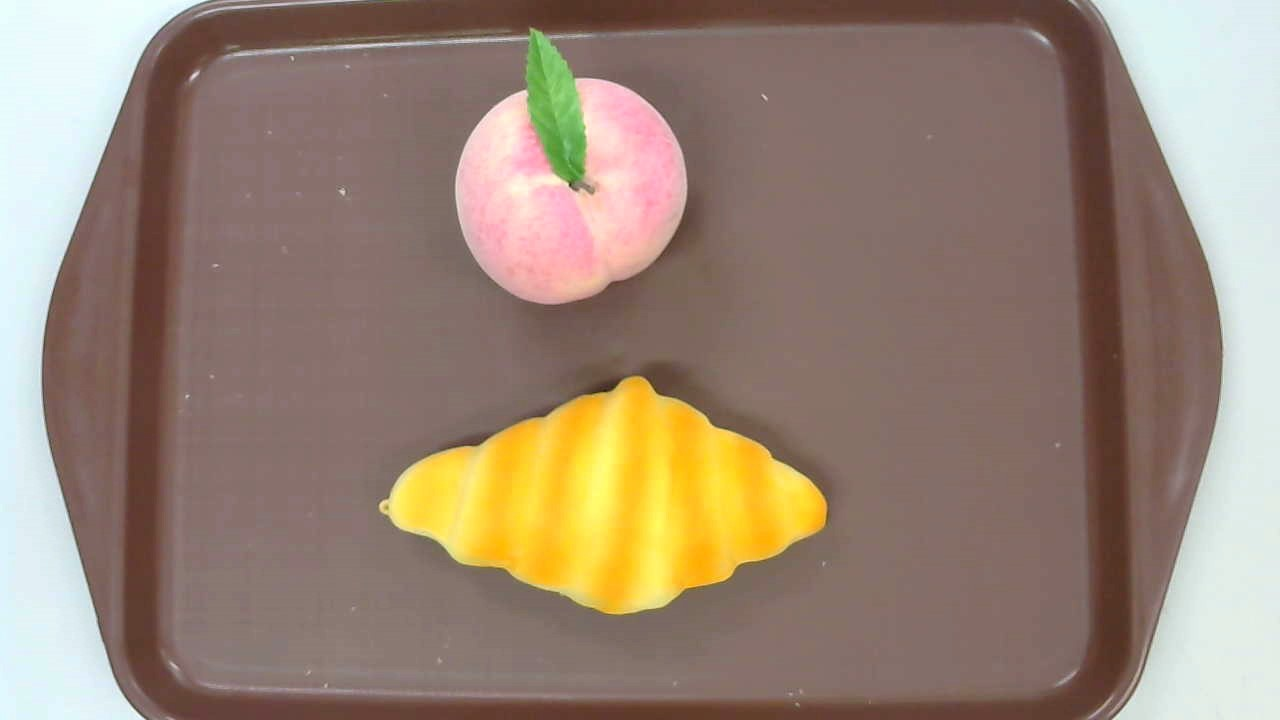croissant: (379, 374, 829, 616)
peach: (455, 27, 689, 304)
